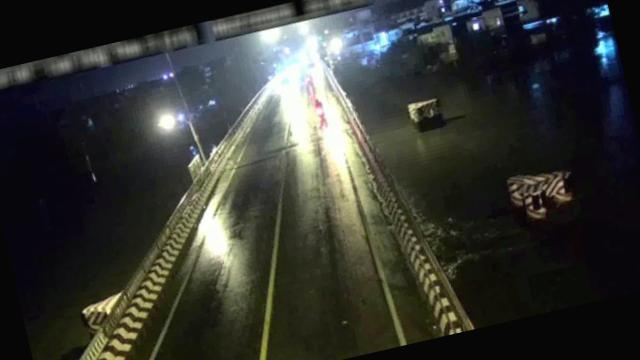Bike: (310, 94, 329, 128)
